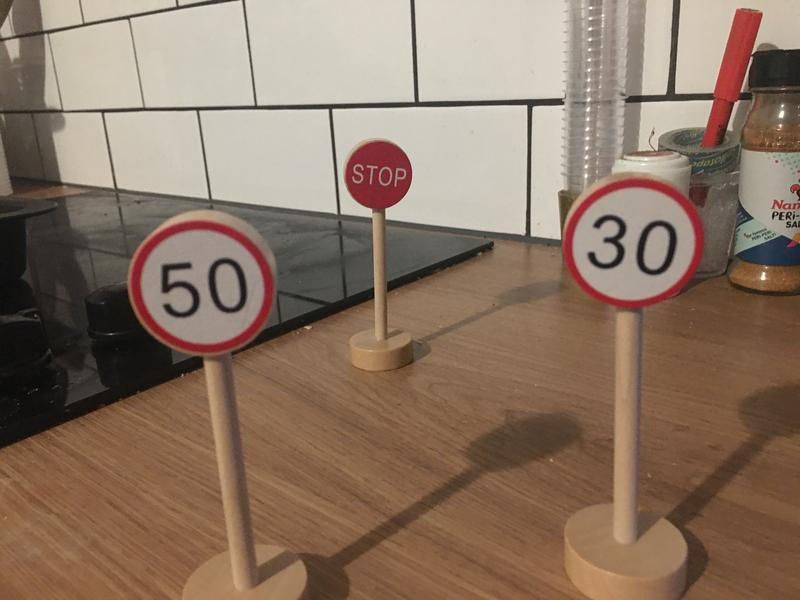Traffic_Sign_30: (565, 182, 701, 309)
Traffic_Sign_50: (127, 224, 274, 352)
Traffic_Sign_Stop: (343, 138, 412, 209)
